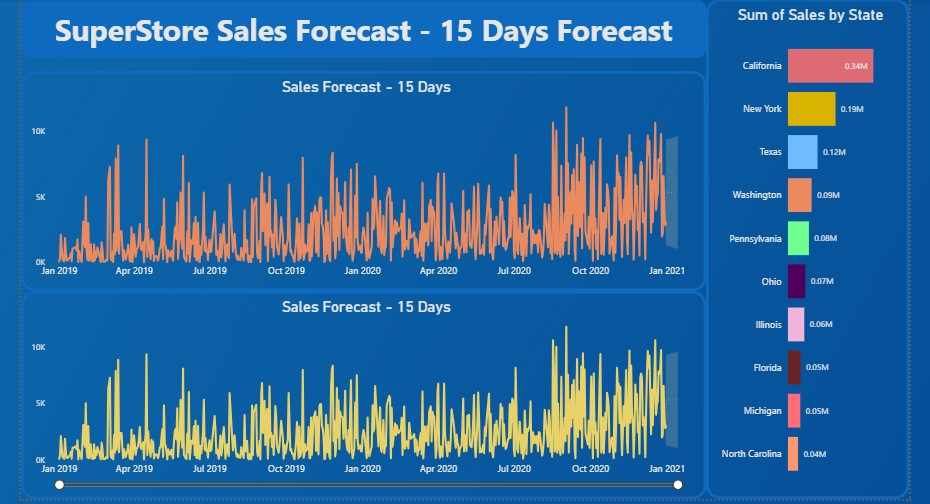

Layout of this report page (visuals, bound fields, positions):
{"tool":"powerbi","page":{"name":"Page 2","canvas":[1280,720],"ordinal":1},"visuals":[{"type":"lineChart","title":"Sales Forecast - 15 Days","fields":{"Y":["Sum(SuperStore_Sales_Dataset.Sales)"],"Category":["SuperStore_Sales_Dataset.Order Date"]},"box":[0,103.3,986.7,316.7],"z":0},{"type":"lineChart","title":"Sales Forecast - 15 Days","fields":{"Y":["Sum(SuperStore_Sales_Dataset.Sales)"],"Category":["SuperStore_Sales_Dataset.Order Date"]},"box":[0,420,986.7,300],"z":1000},{"type":"textbox","box":[0,0,986.7,85],"z":2000},{"type":"barChart","fields":{"Y":["Sum(SuperStore_Sales_Dataset.Sales)"],"Category":["SuperStore_Sales_Dataset.State"]},"box":[986.7,0,293.3,720],"z":3000}]}

Visuals, with their boxes on the page's 1280x720 design canvas (x1, y1, x2, y2). These are canvas units, not pixel positions in the 930x504 screenshot, which may show the page scaled, cropped or inside an application window:
"Sales Forecast - 15 Days" lineChart: 0:103:987:420
"Sales Forecast - 15 Days" lineChart: 0:420:987:720
textbox: 0:0:987:85
barChart - Sum(SuperStore_Sales_Dataset.Sales) x SuperStore_Sales_Dataset.State: 987:0:1280:720
